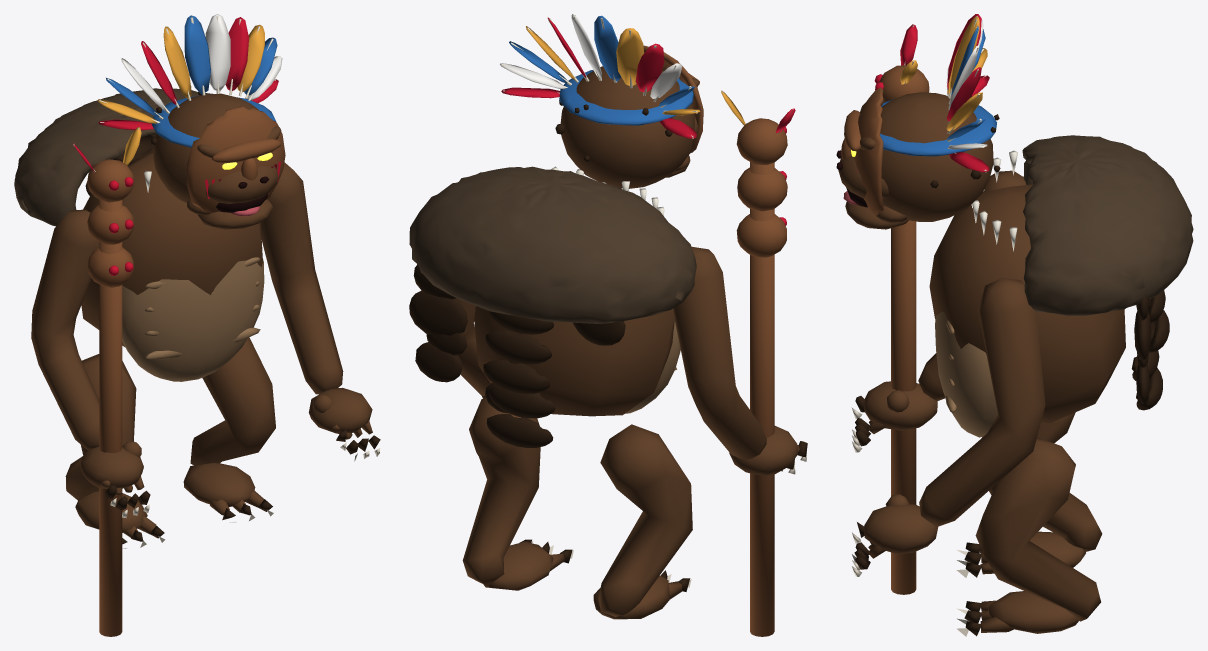
File: hoevding_0.glb
3 renders of one model, left to right at view 1: azimuth 30°, elevation 25°; view 2: azimuth 150°, elevation 25°; view 3: azimuth 270°, elevation 25°, orthographic. The views are drawn at different scales.
Visible parts, largest first — view 1: krop_net, armH_net, hoved_net, armV_net, benV_net, benH_net; view 2: krop_net, armH_net, hoved_net, benH_net, benV_net, armV_net; view 3: krop_net, hoved_net, armV_net, benV_net, armH_net, benH_net.
Boxes of the visible parts, bbox=[...] form: krop_net: bbox=[14, 88, 264, 381]; armH_net: bbox=[31, 127, 150, 636]; hoved_net: bbox=[97, 14, 285, 229]; armV_net: bbox=[260, 162, 380, 461]; benV_net: bbox=[183, 337, 275, 522]; benH_net: bbox=[65, 354, 165, 548]; krop_net: bbox=[409, 166, 696, 447]; armH_net: bbox=[673, 90, 807, 636]; hoved_net: bbox=[500, 14, 703, 188]; benH_net: bbox=[593, 424, 692, 619]; benV_net: bbox=[462, 398, 573, 590]; armV_net: bbox=[456, 298, 490, 398]; krop_net: bbox=[929, 135, 1193, 437]; hoved_net: bbox=[836, 14, 1000, 229]; armV_net: bbox=[852, 278, 1045, 576]; benV_net: bbox=[956, 437, 1100, 636]; armH_net: bbox=[851, 24, 1026, 594]; benH_net: bbox=[956, 412, 1102, 577].
Size of the model in its own units: 2.4 by 4.48 by 2.32.
